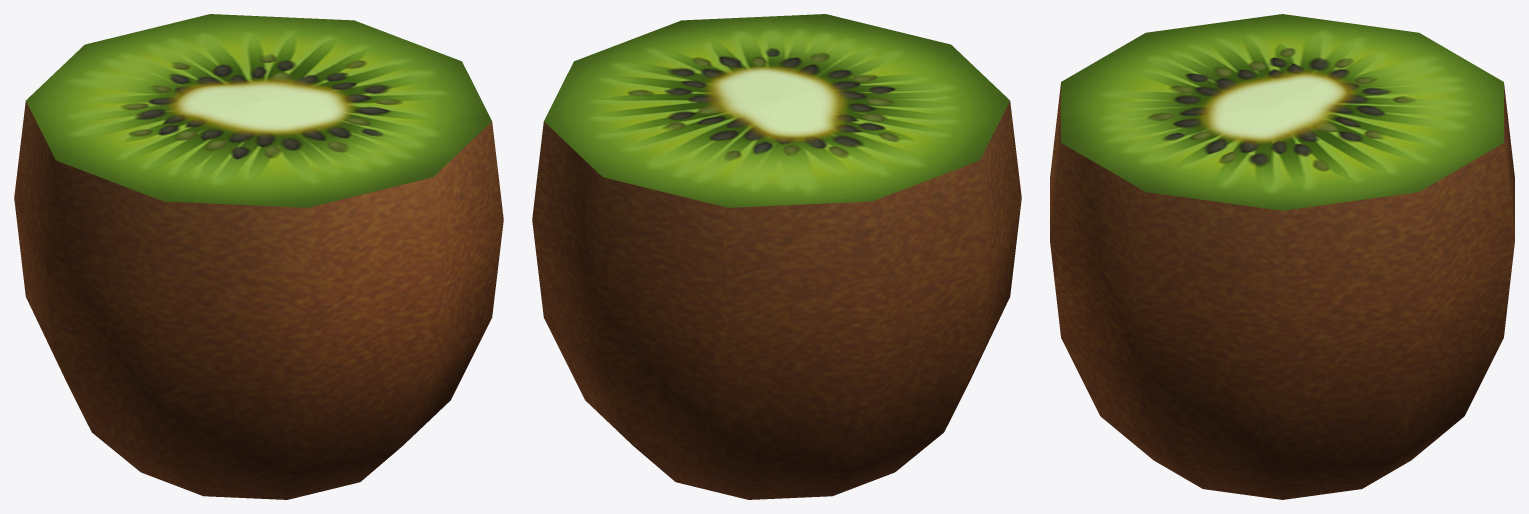
Rendered from Kiwi_Half.fbx.
3 views of the same model, side by side, from view 1: azimuth 30°, elevation 25°; view 2: azimuth 150°, elevation 25°; view 3: azimuth 270°, elevation 25° (orthographic).
Parts seen in each view (by area): view 1: Kiwi_Half; view 2: Kiwi_Half; view 3: Kiwi_Half.
Boxes of the visible parts, left/top/right/bottom form: Kiwi_Half: left=14, top=14, right=503, bottom=499; Kiwi_Half: left=532, top=14, right=1021, bottom=499; Kiwi_Half: left=1050, top=14, right=1514, bottom=499.
Size of the model in its own units: 23.64 by 19.61 by 22.49.
